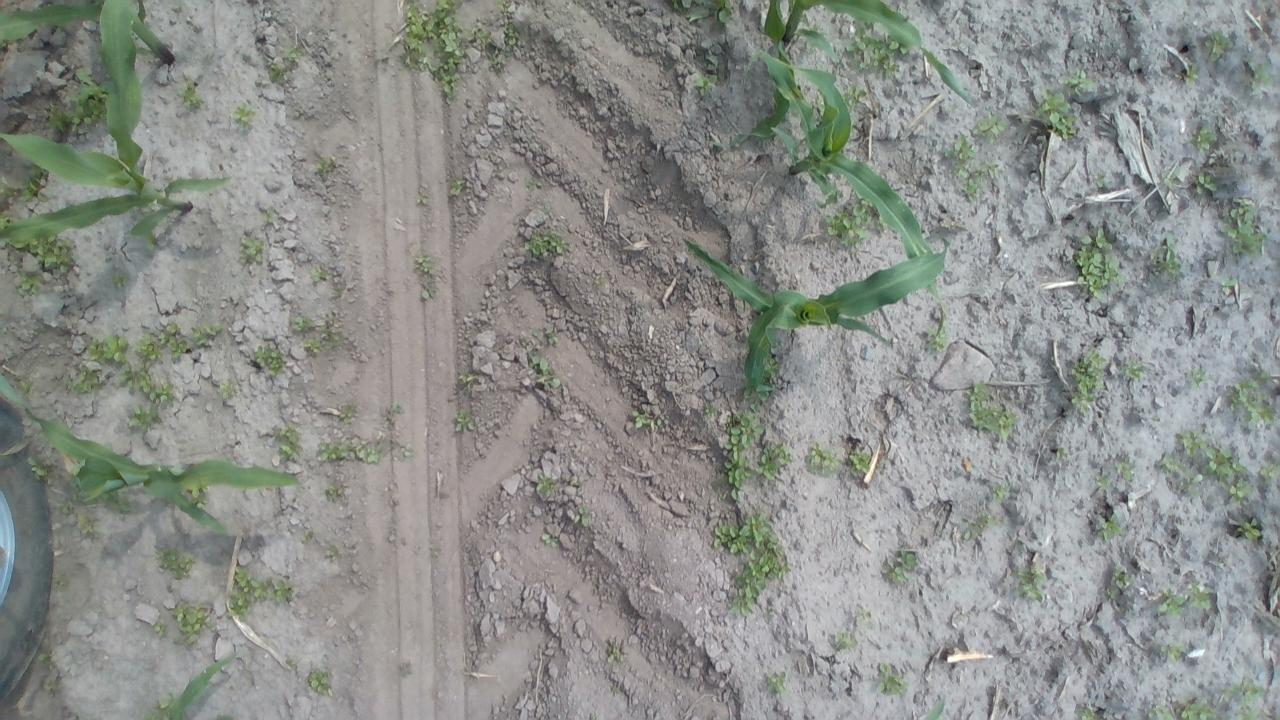Maize: (1, 0, 230, 250), (755, 37, 940, 330), (0, 373, 298, 536), (681, 227, 950, 391), (712, 0, 982, 148), (2, 0, 175, 68), (148, 653, 237, 720), (924, 694, 946, 720)
Weeds: (712, 511, 790, 617), (396, 0, 466, 92), (722, 412, 768, 500), (50, 68, 110, 134), (226, 566, 294, 623), (1074, 227, 1126, 301), (944, 134, 1000, 202), (134, 323, 223, 363), (316, 430, 408, 467), (966, 379, 1020, 440), (1228, 367, 1280, 430), (845, 28, 907, 75), (1224, 196, 1268, 258), (1070, 348, 1108, 415), (115, 363, 175, 405), (824, 200, 872, 249), (1035, 88, 1075, 138), (1223, 676, 1266, 720), (296, 316, 342, 356), (1158, 454, 1204, 494), (758, 432, 794, 483), (31, 236, 78, 274), (173, 602, 213, 646), (1202, 444, 1247, 482), (470, 22, 501, 74), (1146, 698, 1218, 720), (1150, 234, 1182, 280), (672, 0, 735, 23), (265, 46, 301, 86), (155, 546, 197, 580), (63, 364, 109, 395), (522, 230, 570, 259), (884, 546, 918, 584), (526, 351, 560, 389), (416, 252, 442, 301), (88, 334, 128, 365), (251, 342, 286, 377), (1013, 566, 1045, 604), (808, 441, 842, 476), (126, 405, 168, 433), (237, 232, 267, 268), (46, 487, 82, 517), (276, 424, 303, 464), (498, 0, 520, 48), (962, 511, 995, 539), (1204, 29, 1232, 62), (878, 664, 908, 694), (1158, 586, 1186, 618), (305, 666, 333, 698), (631, 404, 664, 431), (975, 112, 1009, 138), (1176, 428, 1204, 459), (20, 168, 46, 201), (1106, 567, 1131, 600), (178, 78, 202, 112), (26, 456, 56, 483), (1064, 68, 1094, 95), (1185, 581, 1212, 611), (519, 330, 558, 350), (230, 101, 256, 129), (846, 446, 872, 474), (1248, 64, 1274, 92), (15, 272, 42, 298), (1098, 514, 1123, 541), (742, 390, 774, 411), (104, 491, 130, 516), (1226, 480, 1253, 504), (1193, 171, 1220, 195), (310, 265, 337, 288), (855, 604, 877, 632), (1156, 642, 1186, 662), (766, 670, 789, 696), (453, 408, 475, 435), (187, 485, 208, 513), (536, 474, 558, 500), (76, 512, 100, 535), (1236, 519, 1262, 540), (694, 72, 716, 96), (1191, 126, 1215, 148), (1124, 358, 1145, 383), (1188, 363, 1208, 389), (448, 176, 470, 199), (925, 329, 946, 353), (845, 85, 865, 110), (1182, 62, 1201, 88), (832, 628, 854, 650), (1160, 167, 1182, 189), (604, 640, 625, 663), (1258, 460, 1280, 481), (572, 505, 593, 527), (1, 174, 18, 201), (218, 377, 236, 402), (1115, 460, 1136, 481), (315, 154, 337, 174), (339, 404, 359, 425), (1095, 472, 1115, 493), (114, 270, 133, 292), (766, 356, 782, 382), (458, 370, 482, 387), (539, 529, 561, 547), (386, 400, 406, 418), (992, 484, 1010, 503), (701, 402, 719, 420), (52, 570, 68, 590), (322, 484, 342, 500), (18, 373, 34, 392), (591, 273, 611, 288), (324, 546, 341, 563), (44, 674, 60, 692), (1220, 277, 1238, 293), (154, 619, 168, 639), (262, 206, 276, 226), (1078, 706, 1098, 720), (143, 232, 159, 249), (1052, 445, 1068, 461), (1092, 172, 1108, 187), (284, 651, 298, 667), (417, 190, 430, 207), (708, 54, 720, 72), (0, 212, 11, 230), (525, 178, 543, 188), (302, 530, 315, 543), (331, 286, 343, 300), (430, 542, 440, 557), (38, 650, 50, 662), (804, 40, 814, 50), (544, 204, 552, 214)
